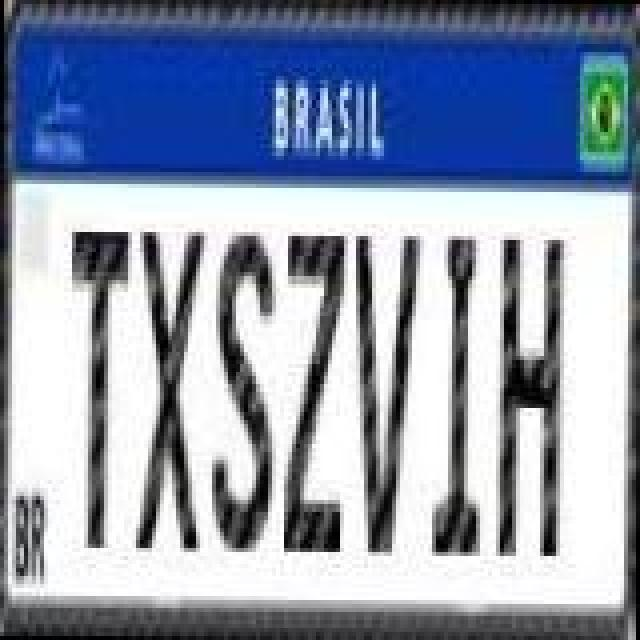H: (496, 234, 564, 558)
I: (430, 232, 486, 556)
S: (212, 228, 280, 552)
T: (66, 226, 130, 550)
V: (352, 232, 420, 556)
X: (134, 228, 206, 552)
Z: (282, 230, 346, 554)
